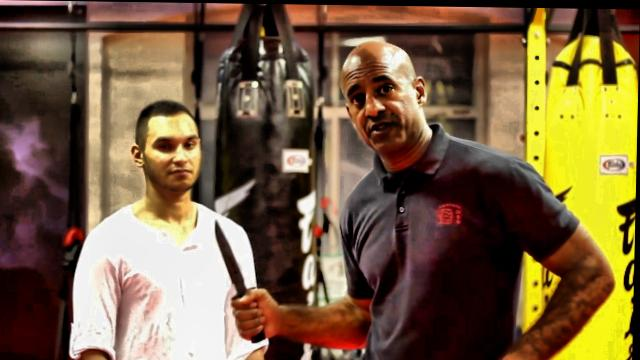knife: (209, 216, 277, 348)
